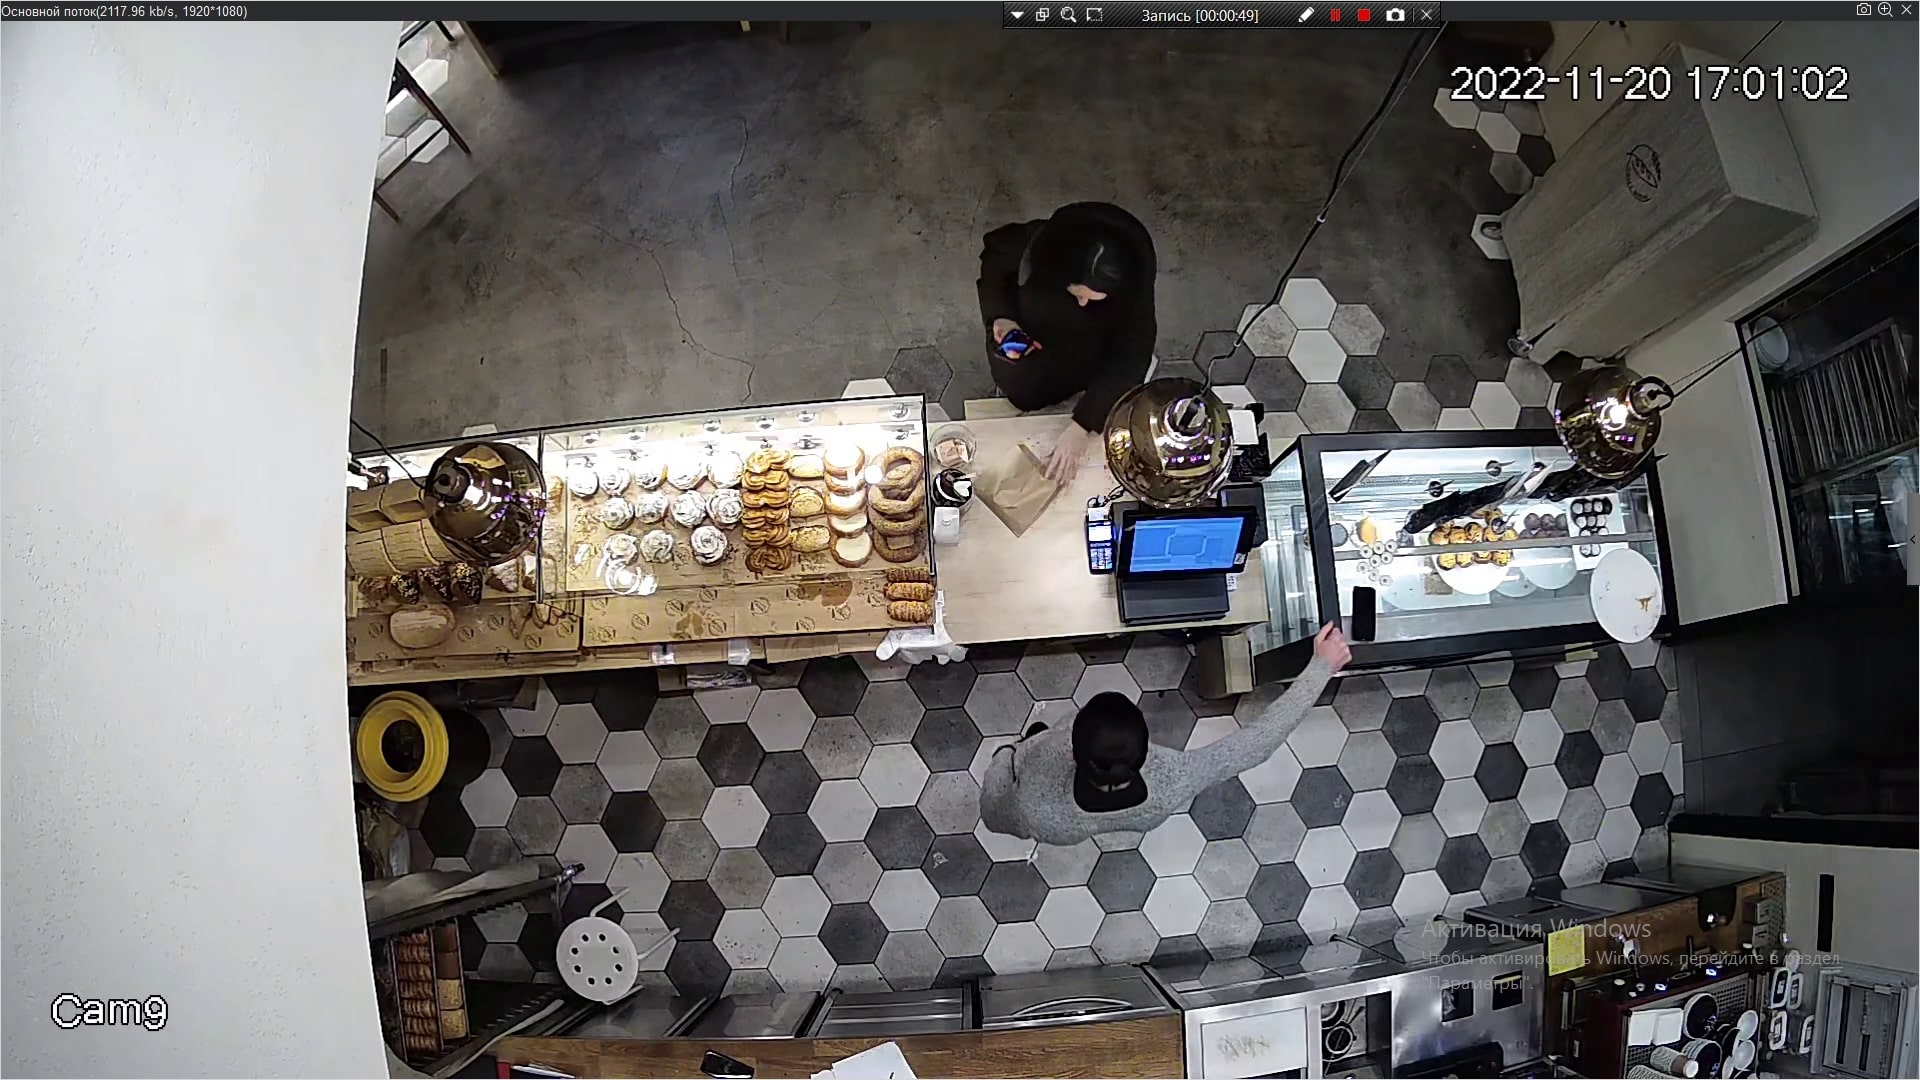barcounter: (361, 443, 1679, 668)
pack: (982, 439, 1064, 525)
person: (971, 200, 1166, 430)
